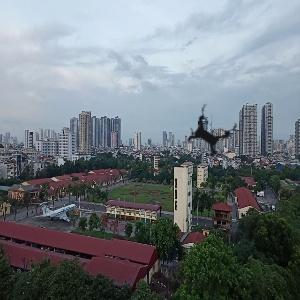drone: (165, 89, 256, 180)
